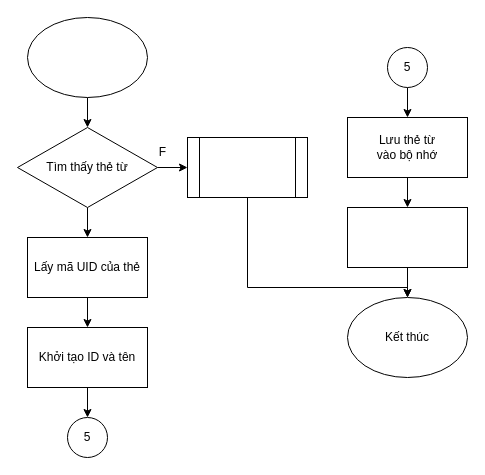
The diagram is 485 pixels wide and 475 high, and some of its shapes have lost their labels. Here are the shapes that lost their labels. From the top down, the centre of each, then its label:
At (87,57): "Bắt đầu".
At (247,167): "Xử lý timeout khi không tìm thấy thẻ từ".
At (407,237): "Thông báo lên màn hình".
